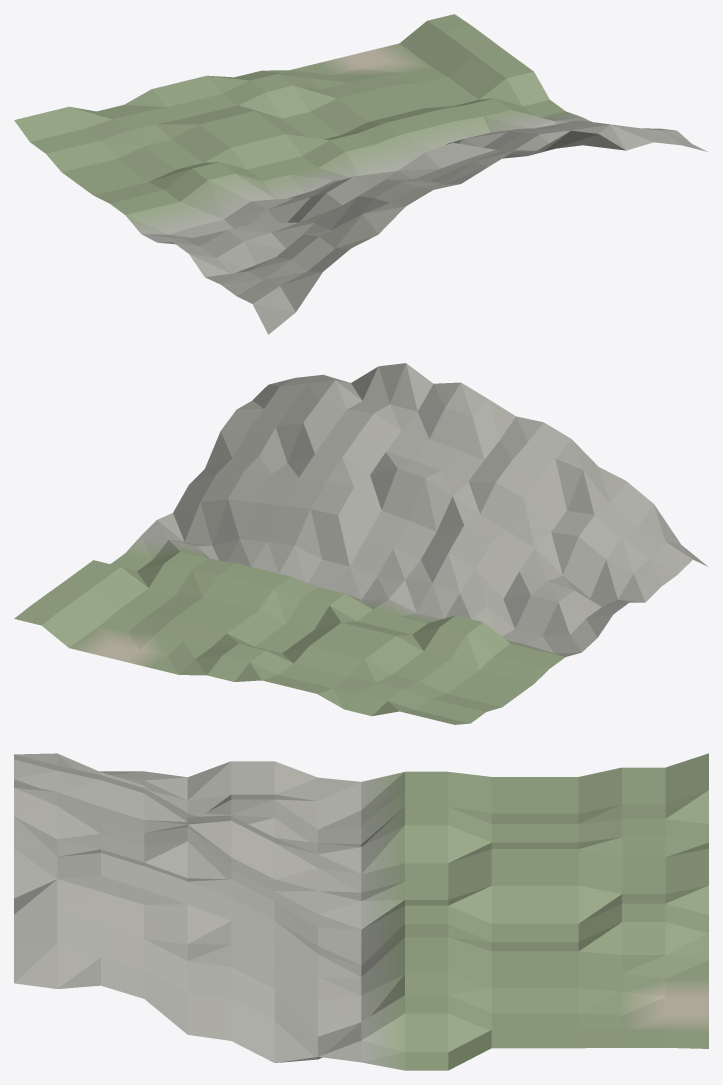
The picture shows the model from 3 angles, top to bottom: view 1: azimuth 30°, elevation 25°; view 2: azimuth 150°, elevation 25°; view 3: azimuth 270°, elevation 25°; orthographic projection. The views are drawn at different scales.
Size of the model in its own units: 32 by 9.08 by 32.
